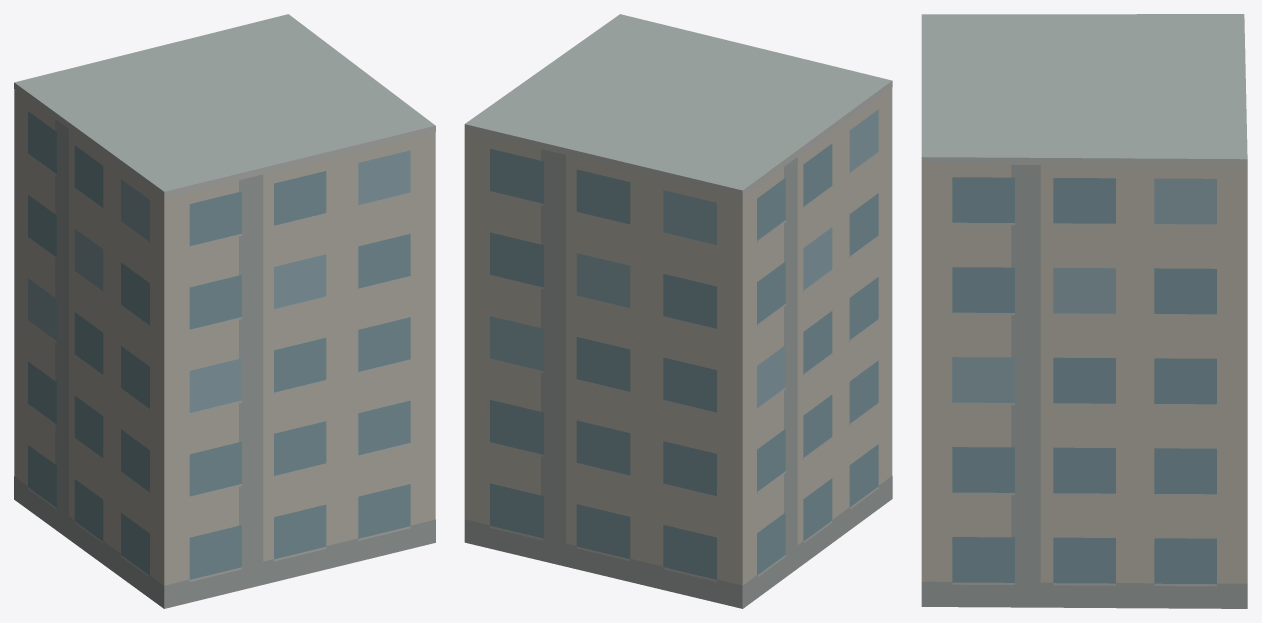
The model's file is survey-upis-33034479.glb.
The picture shows the model from 3 angles, left to right: view 1: azimuth 30°, elevation 25°; view 2: azimuth 150°, elevation 25°; view 3: azimuth 270°, elevation 25°; orthographic projection. The views are drawn at different scales.
Visible parts, largest first — view 1: survey-upis-33034479.tmp; view 2: survey-upis-33034479.tmp; view 3: survey-upis-33034479.tmp.
Boxes of the visible parts, x1,y1,x2,y2 form: survey-upis-33034479.tmp: (14,14,435,608); survey-upis-33034479.tmp: (464,14,892,608); survey-upis-33034479.tmp: (921,14,1247,608).
Bounding box in the file's own units: 10.57 × 15.25 × 10.04.
